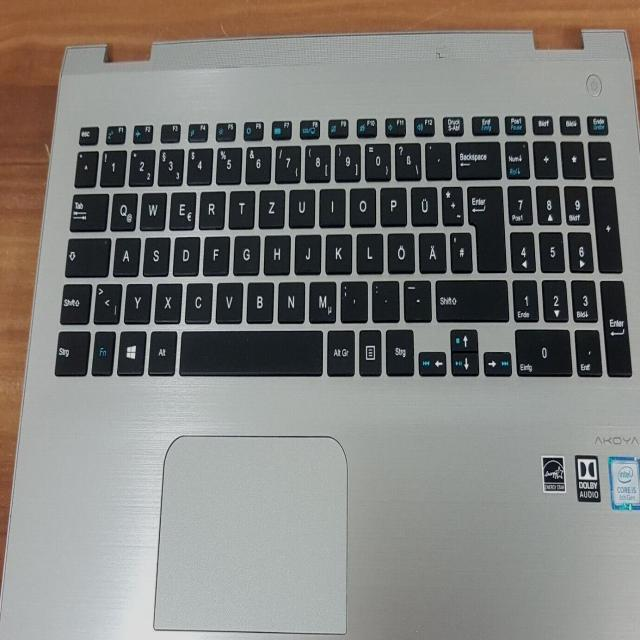0: (363, 140, 390, 179)
1: (99, 147, 125, 185)
2: (128, 146, 154, 184)
3: (156, 145, 182, 184)
4: (185, 144, 211, 182)
5: (214, 144, 240, 182)
6: (244, 143, 270, 182)
7: (274, 141, 299, 181)
8: (303, 141, 329, 180)
9: (333, 140, 360, 179)
a: (111, 232, 139, 274)
accent: (423, 139, 450, 178)
ae: (417, 228, 445, 271)
alt-left: (146, 327, 175, 373)
altgr-right: (326, 326, 354, 374)
b: (245, 277, 273, 321)
c: (183, 278, 211, 322)
caret: (73, 147, 96, 185)
comma: (339, 276, 367, 320)
d: (171, 232, 198, 274)
del: (452, 137, 502, 181)
e: (168, 188, 195, 228)
enter: (464, 180, 504, 270)
f: (202, 232, 228, 274)
g: (232, 231, 259, 273)
h: (262, 230, 290, 272)
hash: (449, 229, 471, 271)
i: (318, 184, 344, 224)
j: (293, 229, 319, 273)
k: (323, 229, 351, 272)
keyboard: (48, 99, 636, 389)
l: (354, 229, 382, 271)
less: (92, 279, 120, 322)
m: (307, 277, 335, 321)
minus: (402, 277, 430, 319)
n: (276, 277, 304, 321)
o: (347, 184, 375, 224)
oe: (385, 229, 413, 271)
p: (378, 182, 405, 224)
plus: (440, 183, 462, 223)
point: (370, 276, 398, 319)
q: (108, 188, 136, 228)
r: (197, 187, 223, 227)
s: (141, 233, 168, 275)
shift-left: (58, 279, 90, 323)
shift-lock: (63, 233, 109, 275)
shift-right: (434, 276, 508, 320)
space: (178, 326, 322, 374)
ss: (393, 140, 420, 178)
strg-left: (52, 326, 88, 373)
strg-right: (384, 325, 414, 375)
t: (227, 186, 254, 226)
tab: (68, 188, 106, 230)
u: (287, 184, 314, 226)
ue: (408, 182, 436, 224)
v: (214, 277, 242, 321)
w: (138, 188, 165, 228)
x: (153, 278, 181, 321)
y: (123, 279, 151, 322)
z: (257, 185, 284, 227)
